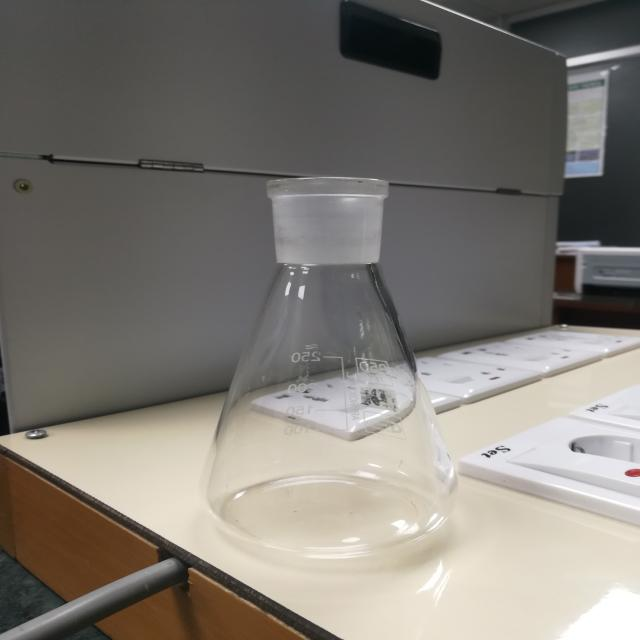Conical_Flask: (170, 141, 490, 586)
